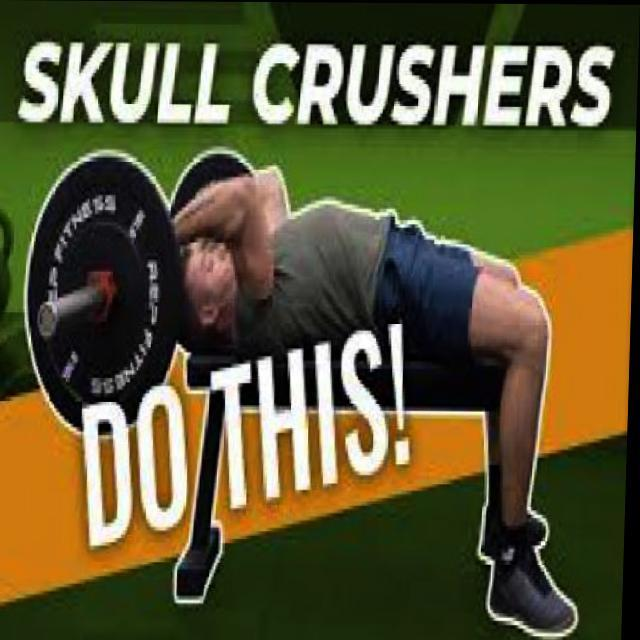barbell: (21, 143, 190, 446)
